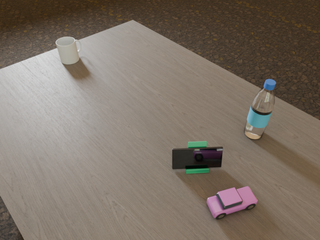bottle: (244, 79, 276, 139)
cup: (56, 37, 81, 64)
phone: (172, 147, 223, 169)
toy_car: (207, 186, 257, 219)
